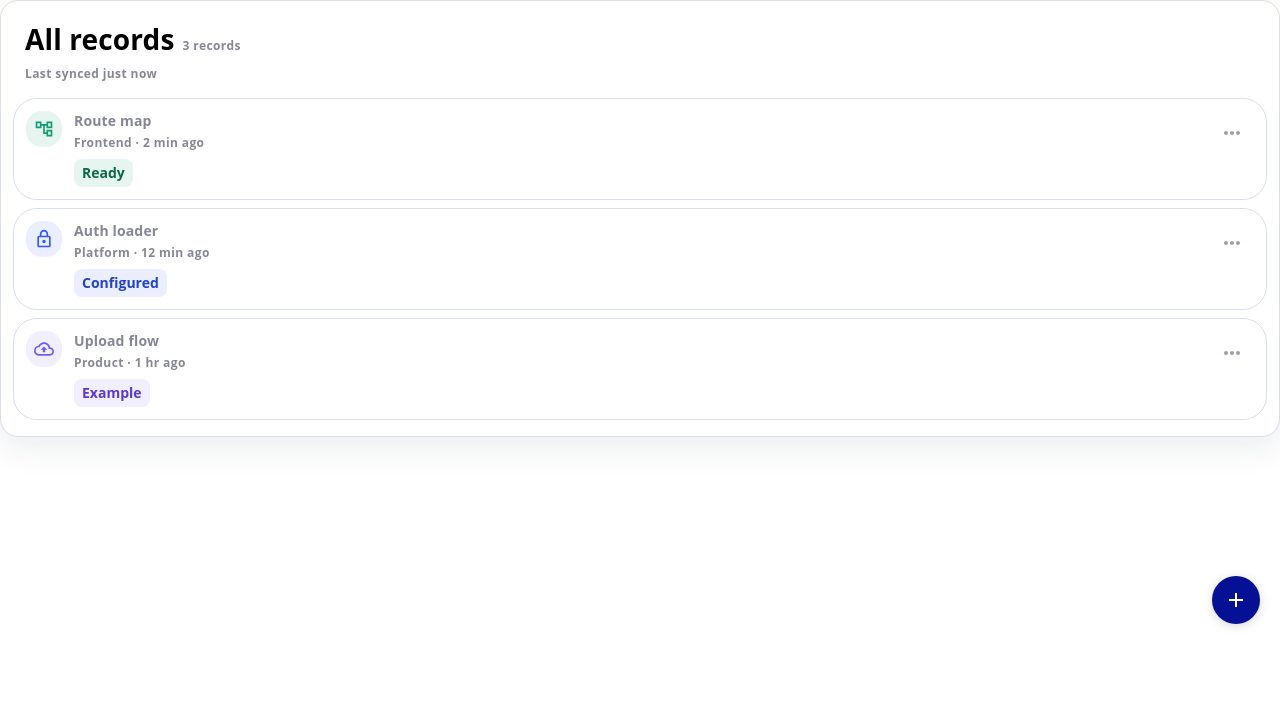
Test case: uses accessible record-card actions on mobile
Expected: the list named "Example records" is shown, left=13, top=98, right=1267, bottom=420
Expected: the number of list items is 3, left=13, top=98, right=1267, bottom=200; left=13, top=208, right=1267, bottom=310; left=13, top=318, right=1267, bottom=420
Click the button named "Open actions for Route map" at (1232, 133), box left=1210, top=111, right=1254, bottom=155
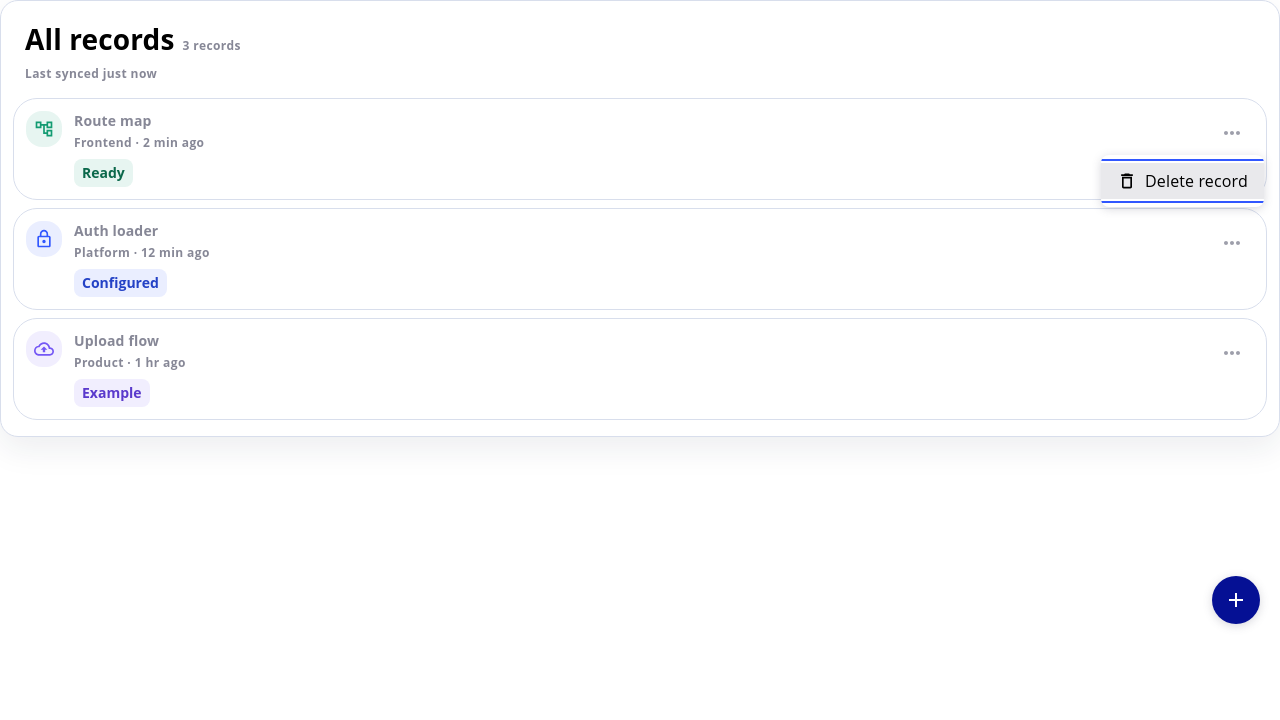
Now the menu item with aria-label "Delete Route map" is shown, box left=1101, top=163, right=1264, bottom=199
